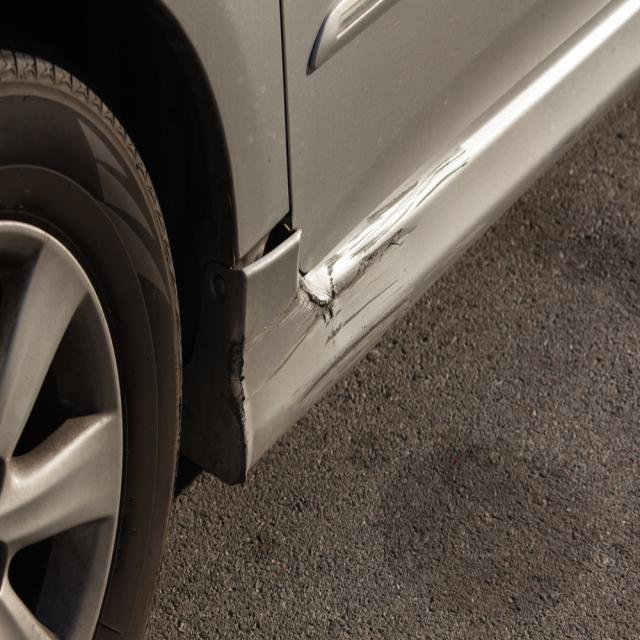Dechirure: (242, 207, 297, 285)
Rayure: (249, 137, 480, 474)
